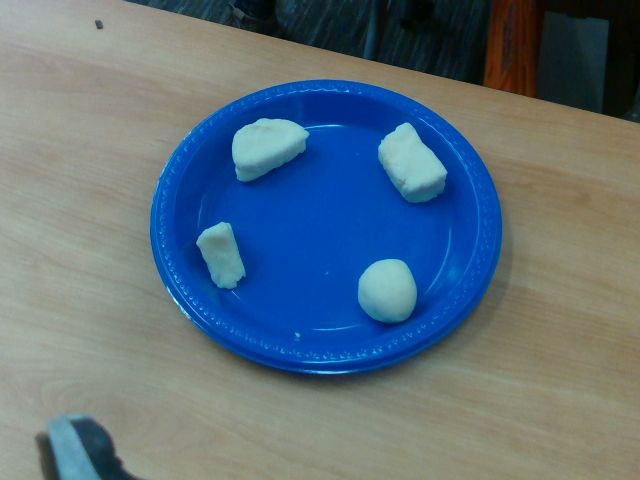mashed_potato: (378, 123, 447, 203), (232, 118, 310, 181), (357, 259, 418, 323), (197, 221, 247, 289)
